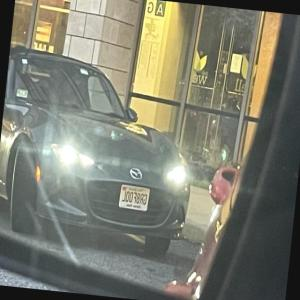Plate: (117, 184, 150, 211)
